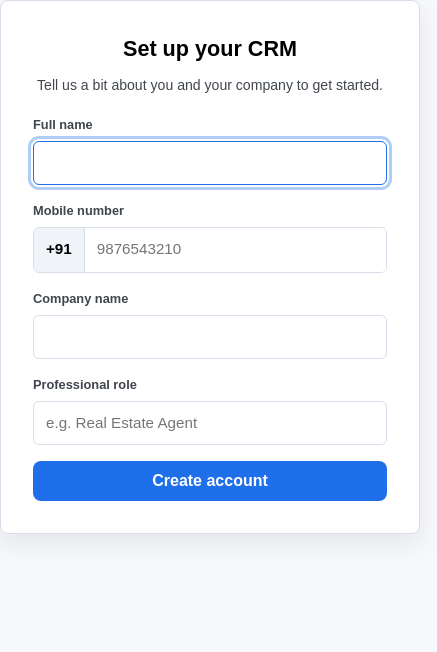
it: OnboardingFormClient › flags empty required fields on submit
Click the button "Create account" at (210, 481), box [33, 461, 387, 501]
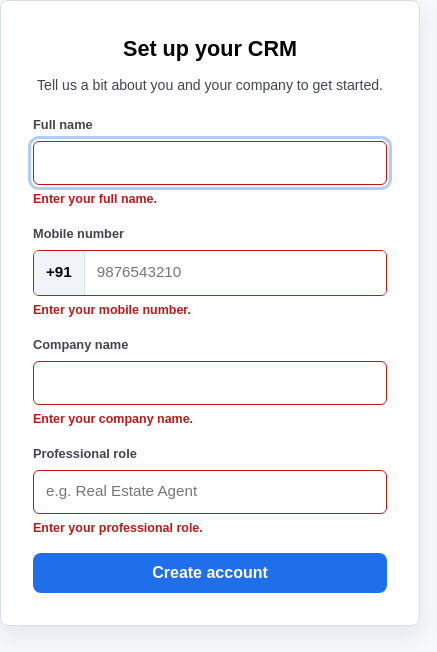
Expected: the text "Enter your full name." is shown, [33, 192, 157, 206]
Expected: the text "Enter your mobile number." is shown, [33, 303, 191, 317]
Expected: the text "Enter your company name." is shown, [33, 412, 193, 426]
